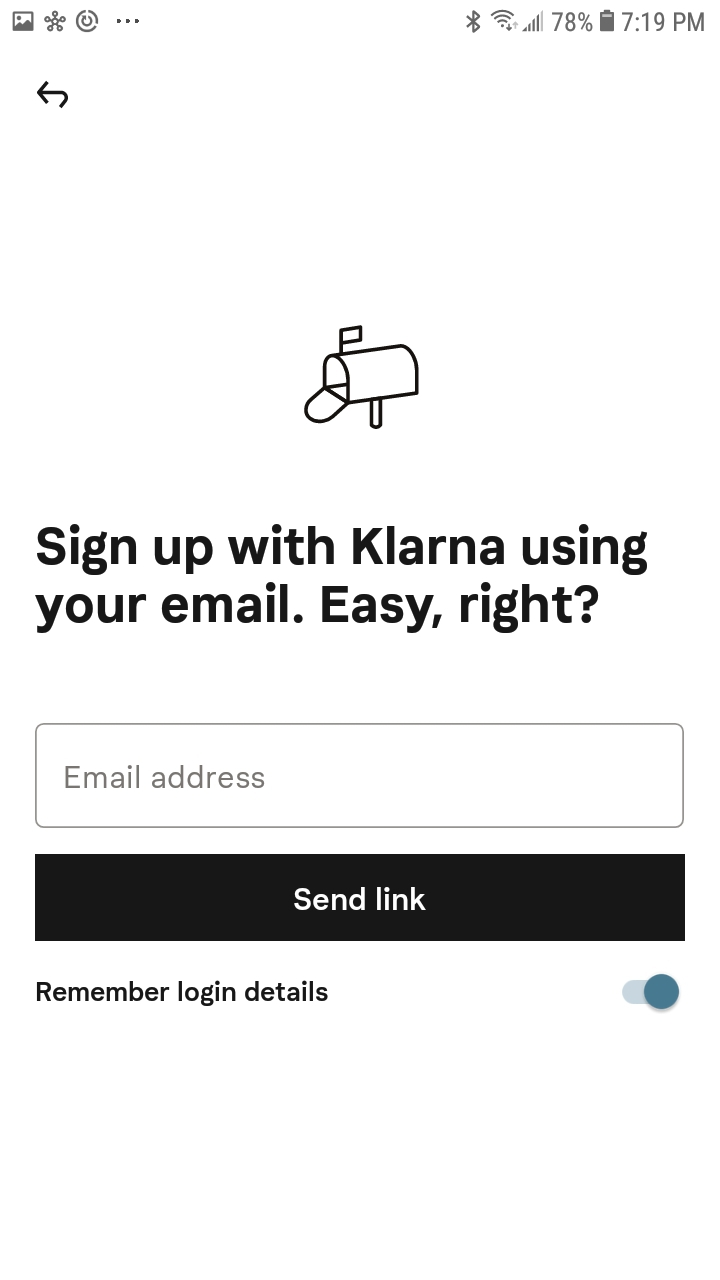EditText: (36, 723, 685, 829)
Icon: (37, 81, 70, 110)
Image: (304, 325, 420, 430)
Switch: (622, 973, 680, 1010)
Text: (35, 523, 648, 634), (37, 980, 329, 1007), (64, 764, 265, 789)
TextButton: (36, 854, 686, 942)
UpperTaskBar: (1, 1, 720, 34)
